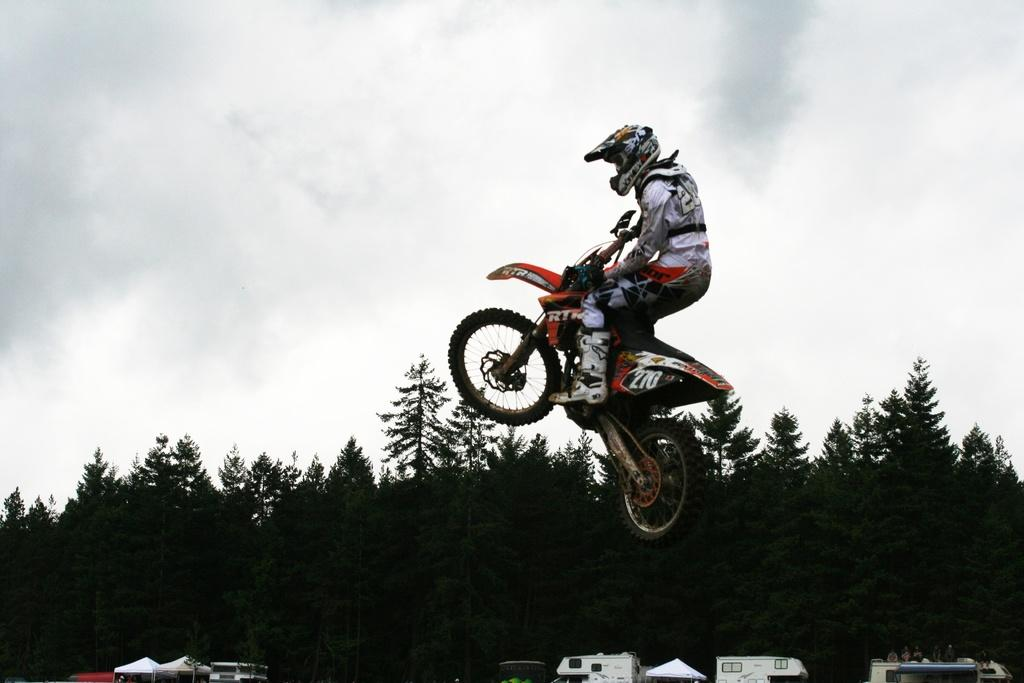helmet: (583, 124, 661, 197)
